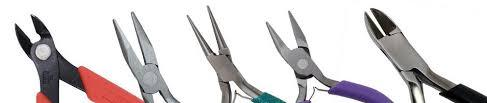pliers: (362, 6, 486, 102), (264, 10, 358, 102), (12, 12, 107, 102), (185, 4, 264, 102), (111, 10, 178, 102)
